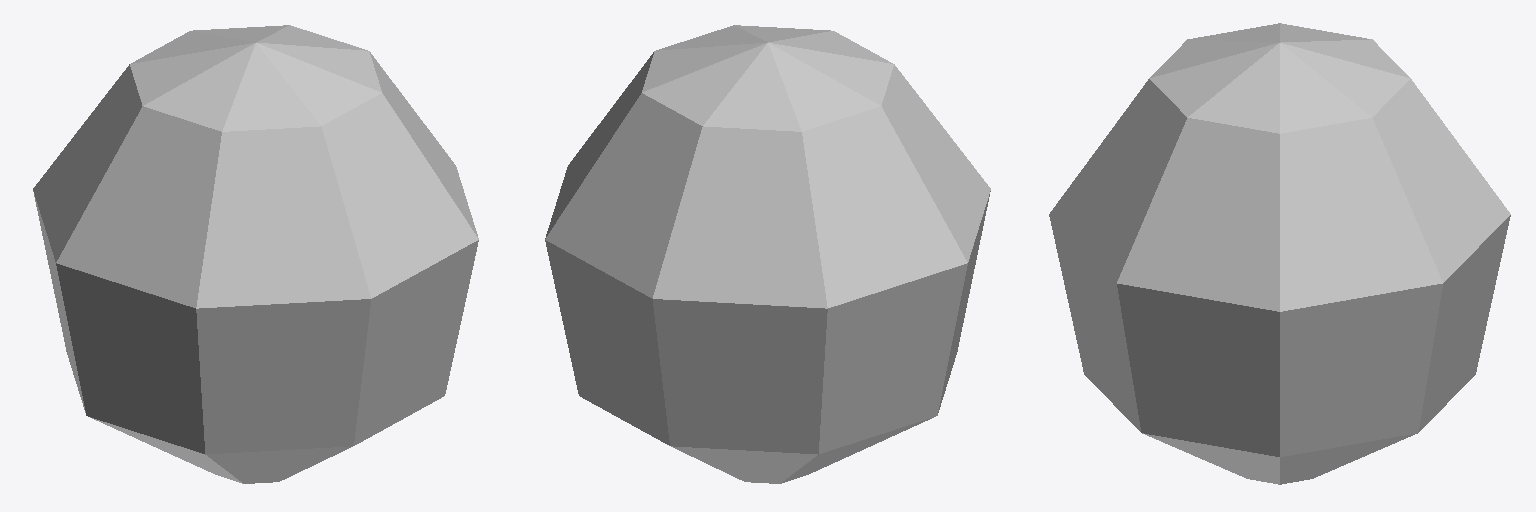
File: decimatedSphere.obj
3 renders of one model, left to right at view 1: azimuth 30°, elevation 25°; view 2: azimuth 150°, elevation 25°; view 3: azimuth 270°, elevation 25°, orthographic.
Bounding box in the file's own units: 1.96 × 2 × 1.96.